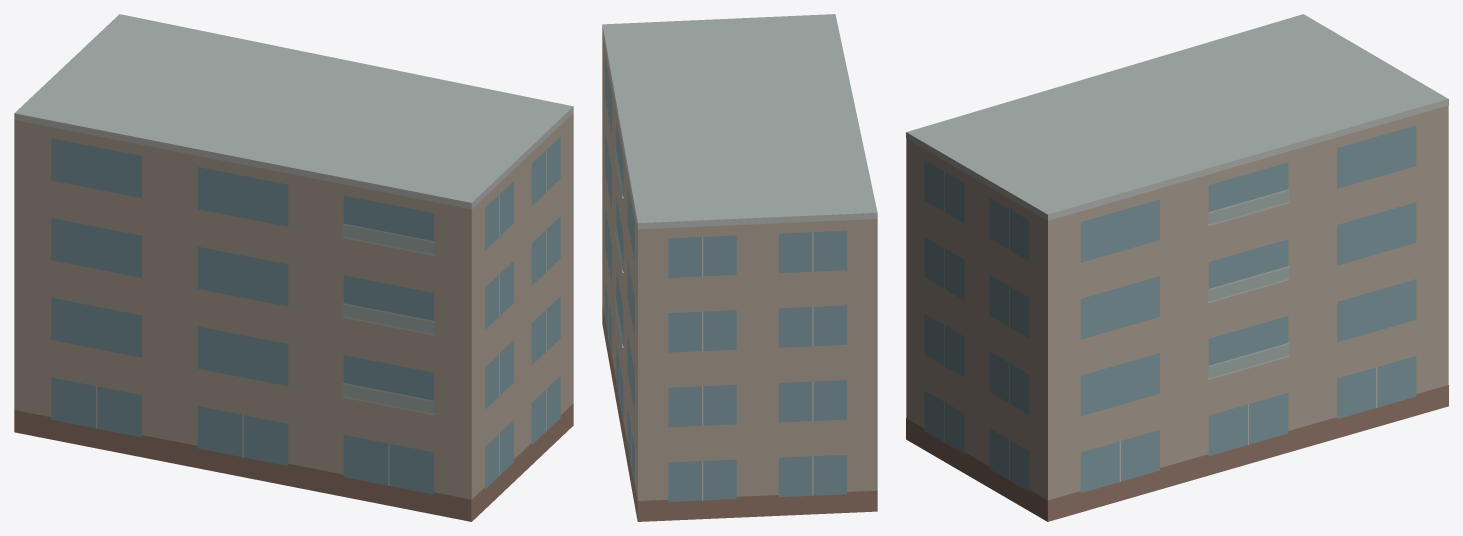
File: survey-upis-32630623.glb
The picture shows the model from 3 angles, left to right: view 1: azimuth 30°, elevation 25°; view 2: azimuth 150°, elevation 25°; view 3: azimuth 270°, elevation 25°; orthographic projection. The views are drawn at different scales.
Parts seen in each view (by area): view 1: survey-upis-32630623.tmp; view 2: survey-upis-32630623.tmp; view 3: survey-upis-32630623.tmp.
Boxes of the visible parts, x1,y1,x2,y2 form: survey-upis-32630623.tmp: [14, 14, 573, 521]; survey-upis-32630623.tmp: [602, 14, 877, 521]; survey-upis-32630623.tmp: [906, 14, 1448, 521].
Size of the model in its own units: 16.6 by 11.85 by 18.97.
